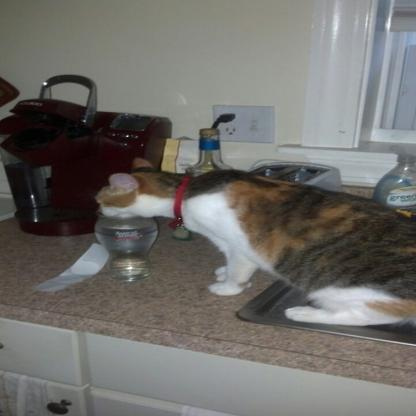Target: (104, 154, 416, 330)
